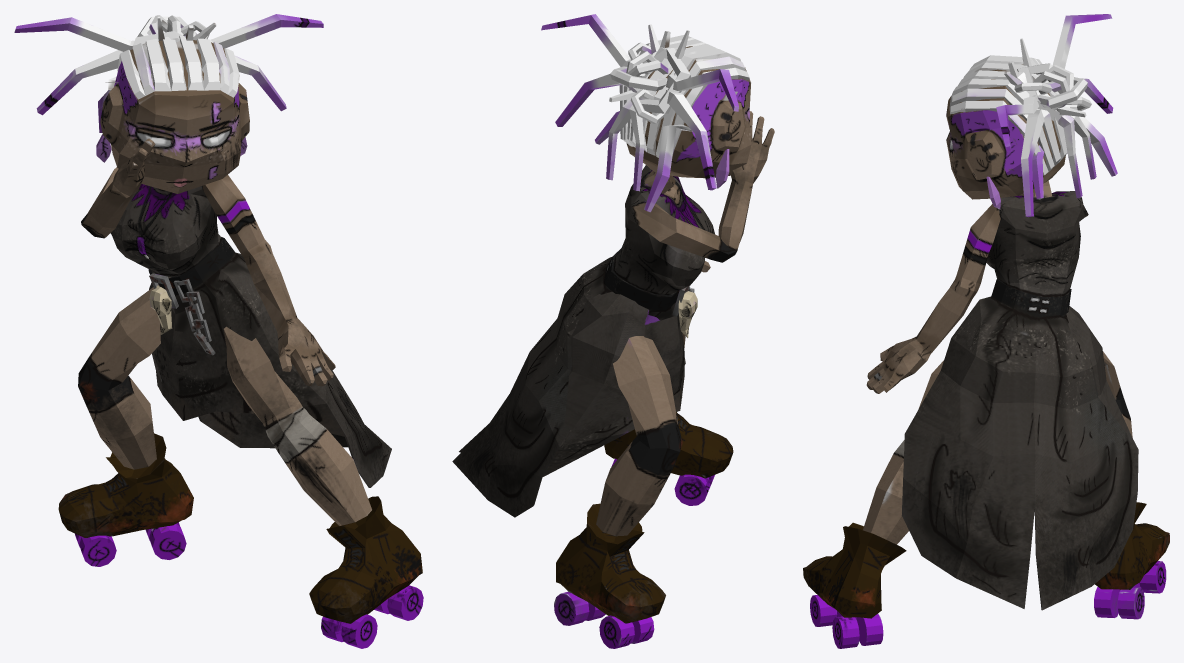
Rendered from bruja_000071.obj.
3 views of the same model, side by side, from view 1: azimuth 30°, elevation 25°; view 2: azimuth 150°, elevation 25°; view 3: azimuth 270°, elevation 25° (orthographic). The views are drawn at different scales.
Parts seen in each view (by area): view 1: Bruja_Plane.001; view 2: Bruja_Plane.001; view 3: Bruja_Plane.001.
Part boxes in pixels (<box>): Bruja_Plane.001: <box>14,14,423,648</box>; Bruja_Plane.001: <box>452,14,774,648</box>; Bruja_Plane.001: <box>803,14,1169,648</box>.
Size of the model in its own units: 9.15 by 15.42 by 9.25.
